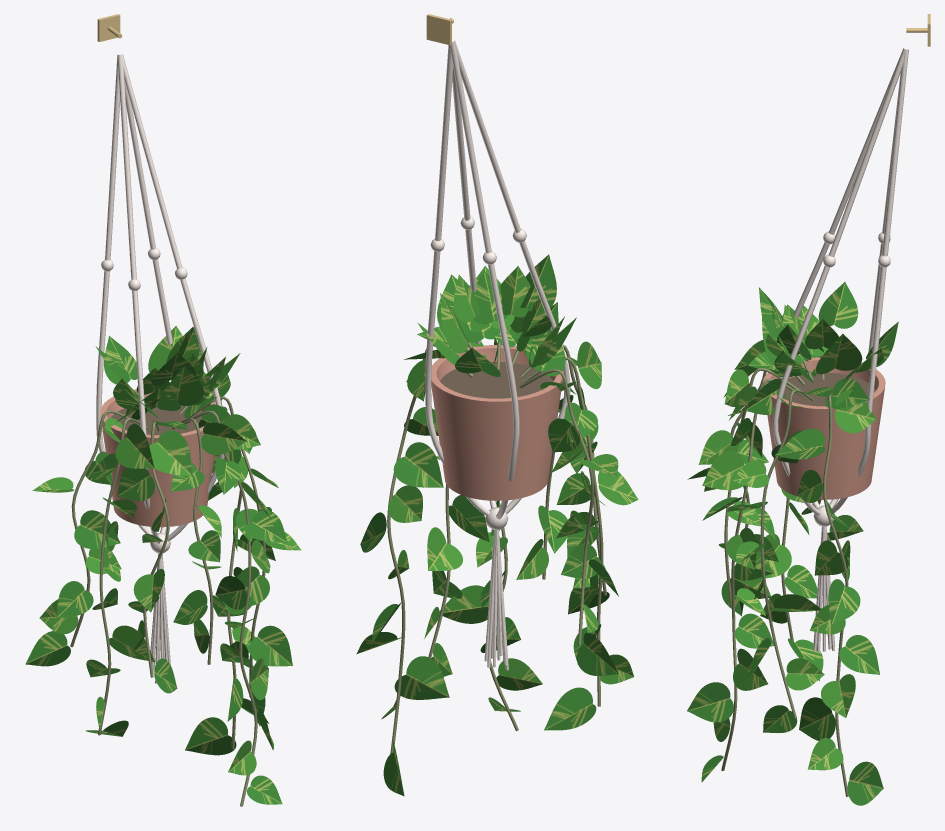
File: obj-pothos-macrame.glb
3 views of the same model, side by side, from view 1: azimuth 30°, elevation 25°; view 2: azimuth 150°, elevation 25°; view 3: azimuth 270°, elevation 25° (orthographic). The views are drawn at different scales.
Parts seen in each view (by area): view 1: obj-pothos-macrame; view 2: obj-pothos-macrame; view 3: obj-pothos-macrame.
Boxes of the visible parts, x1,y1,x2,y2 form: obj-pothos-macrame: [25, 14, 300, 806]; obj-pothos-macrame: [356, 14, 638, 796]; obj-pothos-macrame: [687, 14, 930, 805].
Size of the model in its own units: 0.3695 by 1.03 by 0.3106.
3 materials, 3 textured.
